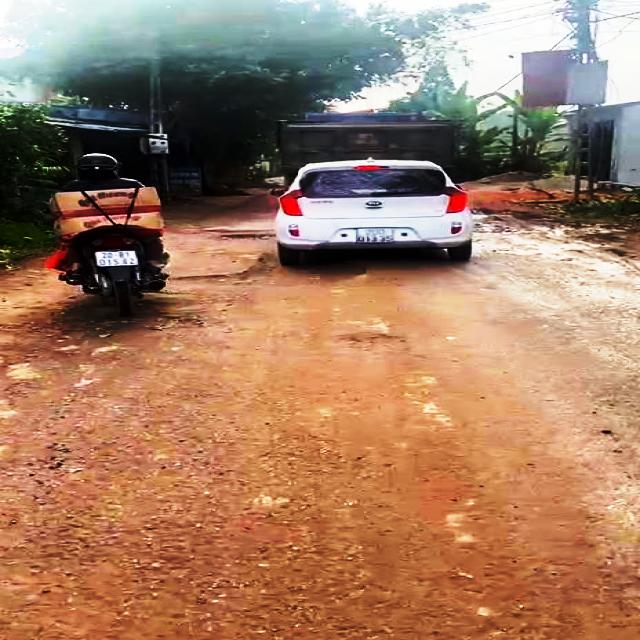pothole: (163, 266, 270, 285), (225, 232, 277, 243)
